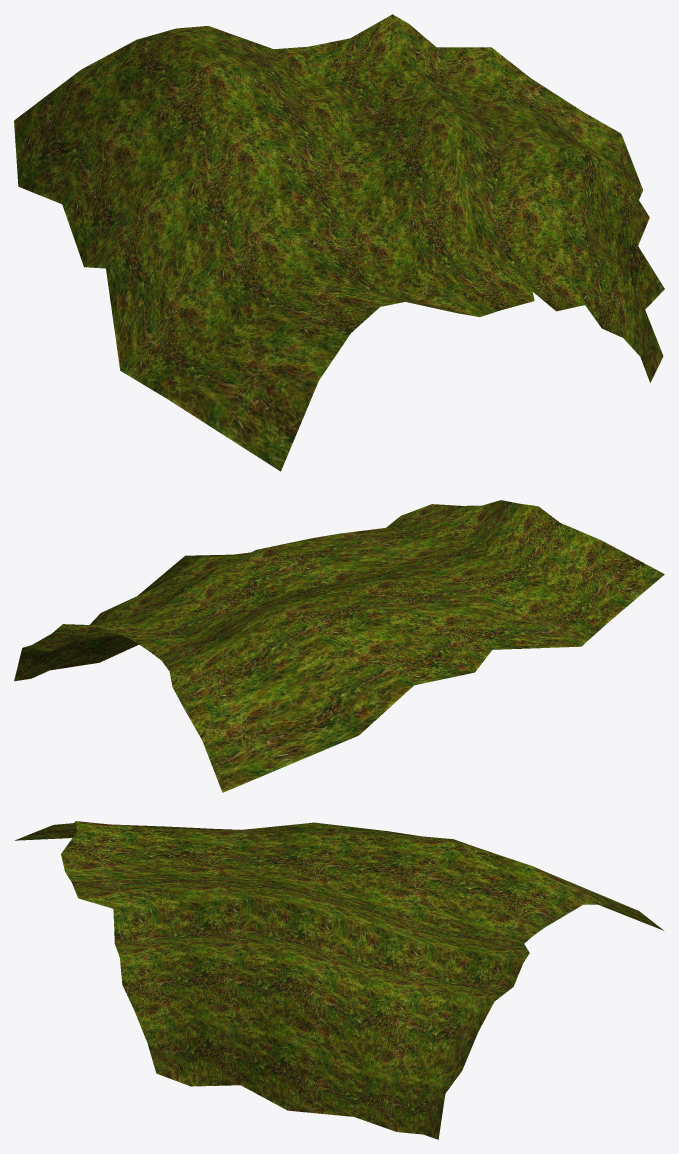
File: TROLLHOLE02_ZOBJECT03.fbx
3 renders of one model, top to bottom at view 1: azimuth 30°, elevation 25°; view 2: azimuth 150°, elevation 25°; view 3: azimuth 270°, elevation 25°, orthographic. The views are drawn at different scales.
Parts seen in each view (by area): view 1: TROLLHOLE02_ZOBJECT03; view 2: TROLLHOLE02_ZOBJECT03; view 3: TROLLHOLE02_ZOBJECT03.
Part boxes in pixels (x1,y1,x2,y2): TROLLHOLE02_ZOBJECT03: (14,14,664,471); TROLLHOLE02_ZOBJECT03: (14,500,664,792); TROLLHOLE02_ZOBJECT03: (15,821,663,1139).
Bounding box in the file's own units: 298069 × 90549 × 349138.
Materials: 1 (1 with a texture image).
